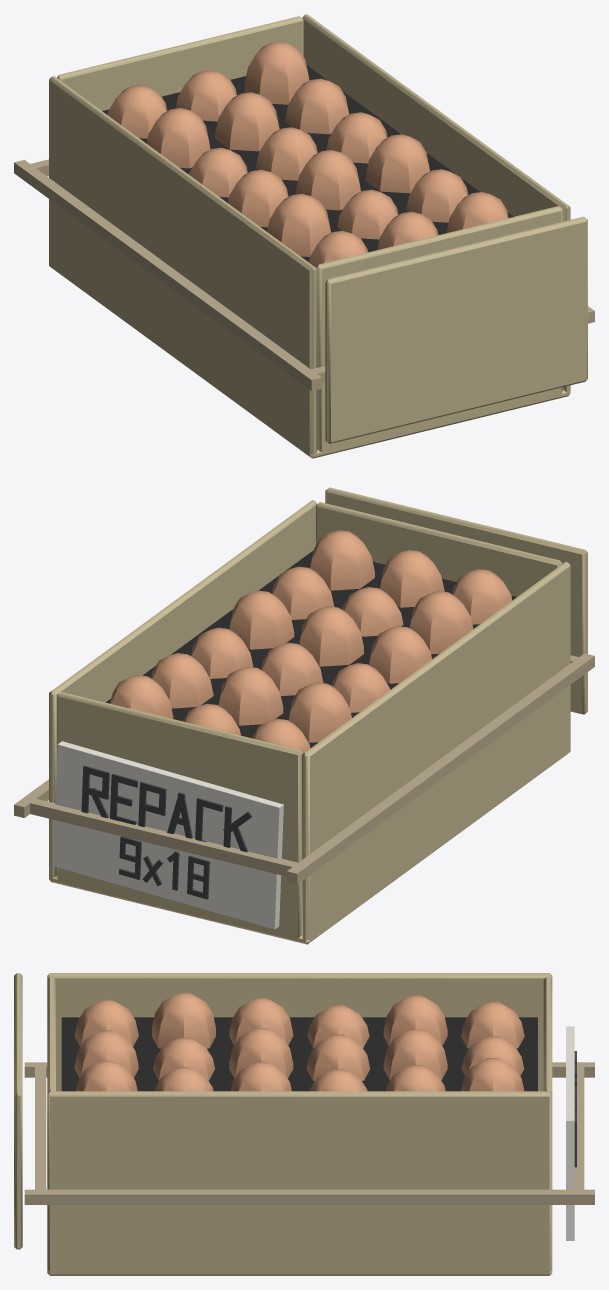
Rendered from ammo_9x18_repack.glb.
3 renders of one model, top to bottom at view 1: azimuth 30°, elevation 25°; view 2: azimuth 150°, elevation 25°; view 3: azimuth 270°, elevation 25°, orthographic. The views are drawn at different scales.
Visible parts, largest first — view 1: body; view 2: body; view 3: body.
Part boxes in pixels (x1,y1,x2,y2): body: [14, 14, 594, 458]; body: [14, 487, 594, 944]; body: [14, 973, 594, 1275].
Bounding box in the file's own units: 0.0434 × 0.0288 × 0.0805.
